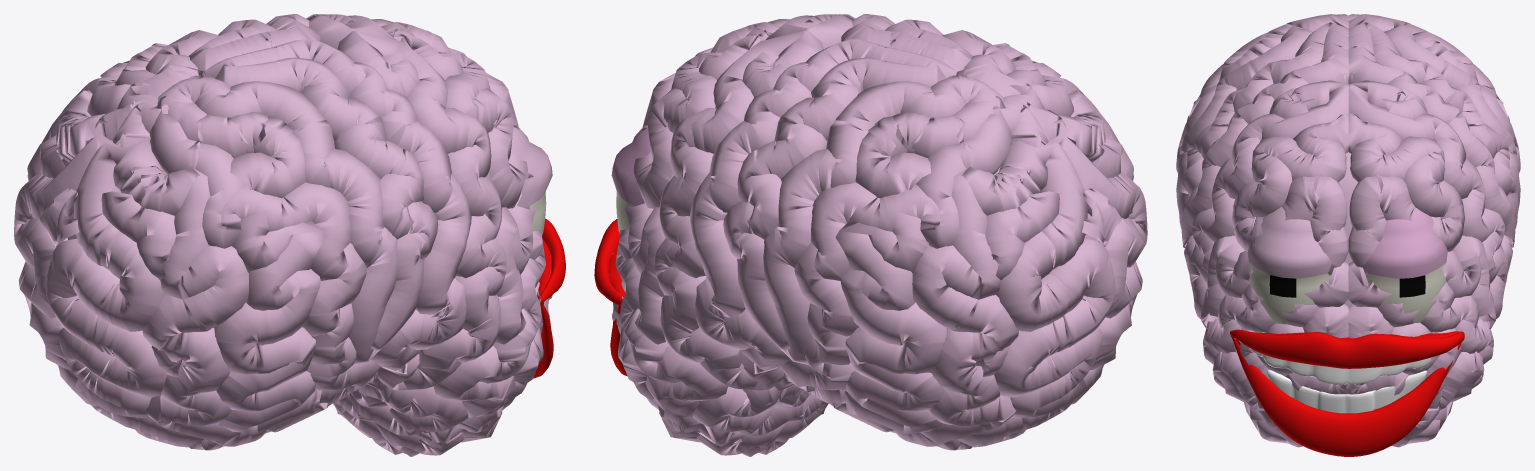
File: brainFace.fbx
The picture shows the model from 3 angles, left to right: view 1: azimuth 30°, elevation 25°; view 2: azimuth 150°, elevation 25°; view 3: azimuth 270°, elevation 25°; orthographic projection. The views are drawn at different scales.
Parts seen in each view (by area): view 1: pSphere2, pasted__pSphere3, mouth_3_woman.1; view 2: pSphere2, mouth_3_woman.1, pSphere3; view 3: pSphere2, mouth_3_woman.1, pasted__pSphere3, pSphere3.
Boxes of the visible parts, bbox=[...] form: pSphere2: bbox=[14, 14, 549, 456]; pasted__pSphere3: bbox=[510, 127, 552, 235]; mouth_3_woman.1: bbox=[533, 218, 565, 378]; pSphere2: bbox=[612, 14, 1147, 456]; mouth_3_woman.1: bbox=[594, 219, 627, 376]; pSphere3: bbox=[611, 128, 650, 232]; pSphere2: bbox=[1176, 14, 1520, 456]; mouth_3_woman.1: bbox=[1230, 329, 1464, 456]; pasted__pSphere3: bbox=[1247, 207, 1331, 324]; pSphere3: bbox=[1365, 207, 1447, 323].
Size of the model in its own units: 4.94 by 4.14 by 3.64.
